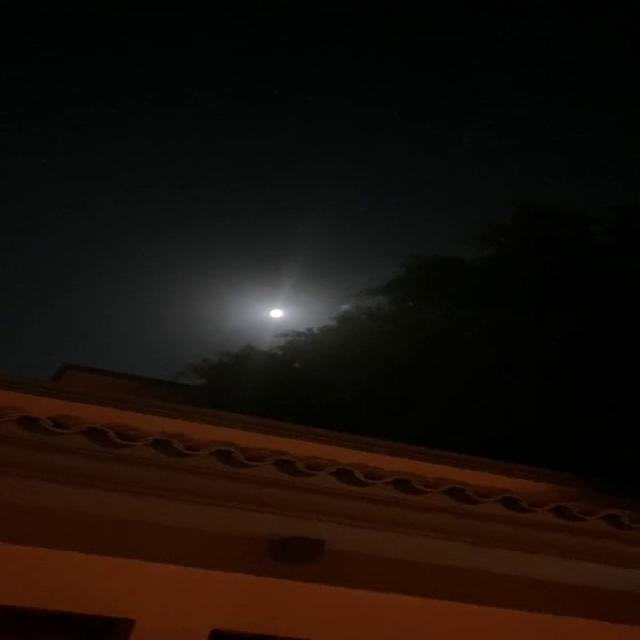moon: (264, 308, 291, 323)
